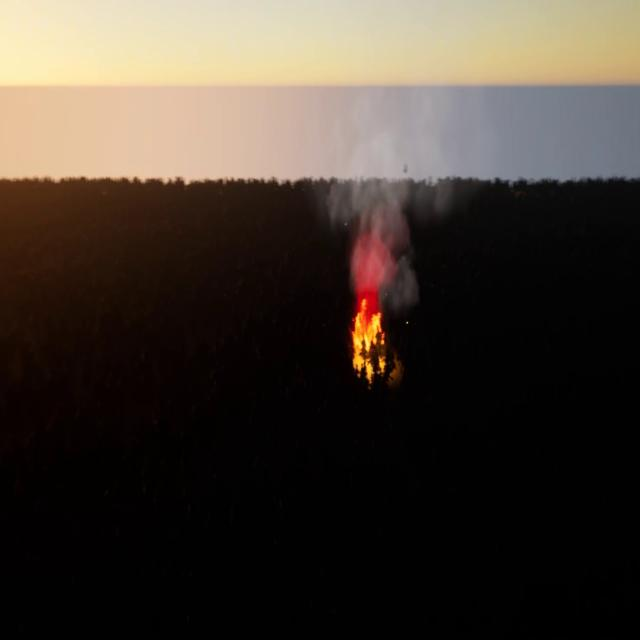fire: (350, 307, 394, 376)
smoke: (326, 140, 447, 312)
